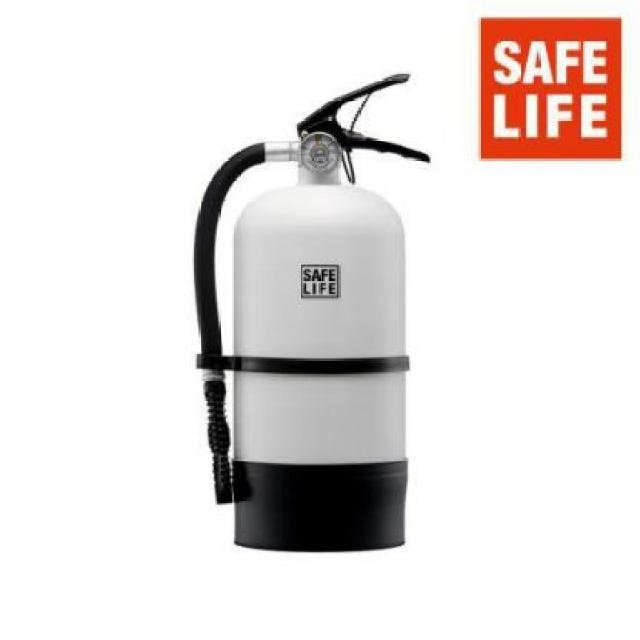fire extinguisher: (192, 73, 430, 553)
